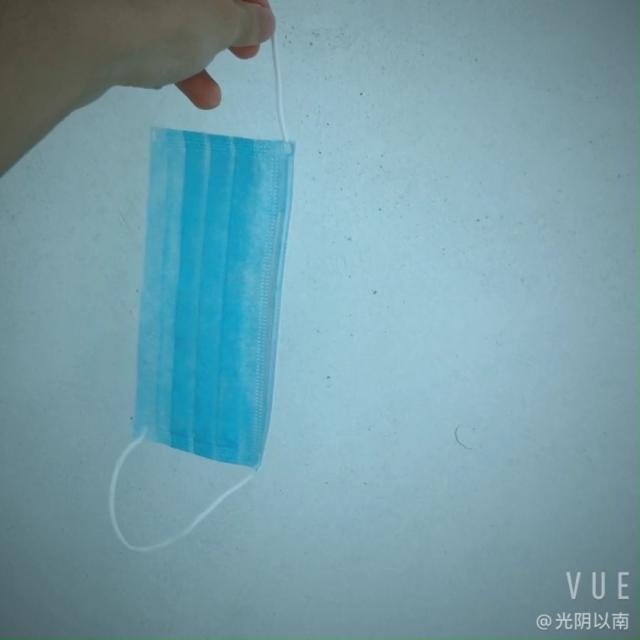face mask: (123, 110, 292, 465)
